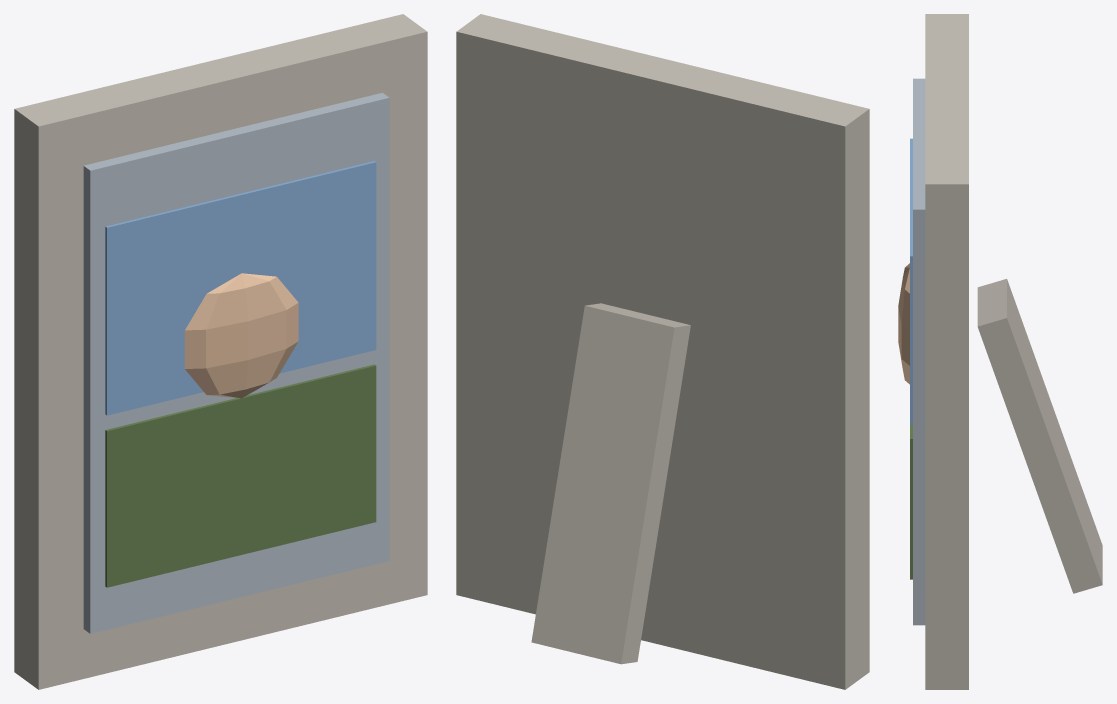
Rendered from frame_photo.glb.
The picture shows the model from 3 angles, left to right: view 1: azimuth 30°, elevation 25°; view 2: azimuth 150°, elevation 25°; view 3: azimuth 270°, elevation 25°; orthographic projection. The views are drawn at different scales.
Parts seen in each view (by area): view 1: frame_photo; view 2: frame_photo; view 3: frame_photo.
Boxes of the visible parts, bbox=[...] form: frame_photo: bbox=[14, 14, 427, 689]; frame_photo: bbox=[456, 14, 869, 689]; frame_photo: bbox=[898, 14, 1102, 689].
Size of the model in its own units: 0.13 by 0.18 by 0.066.
